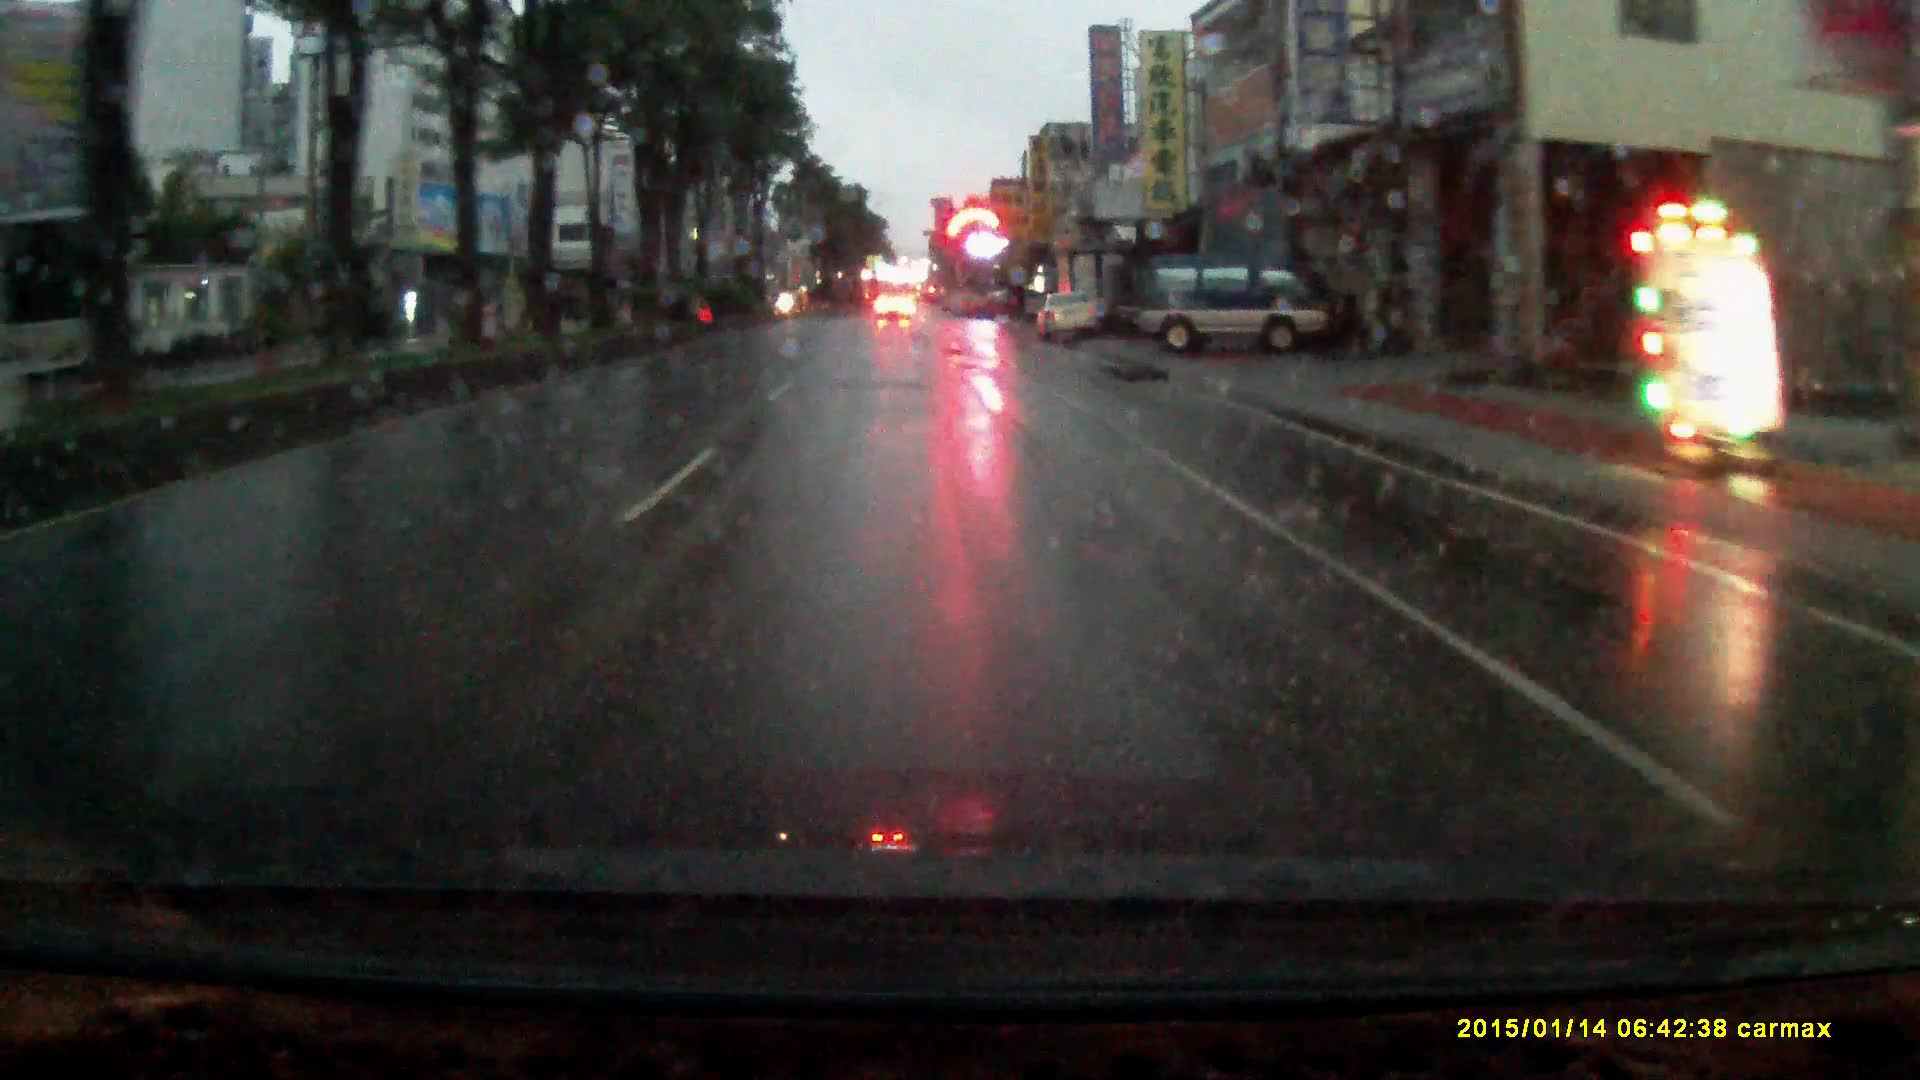vehicle: (1134, 255, 1349, 363), (1054, 249, 1130, 340), (1036, 289, 1101, 345), (876, 295, 914, 326)
